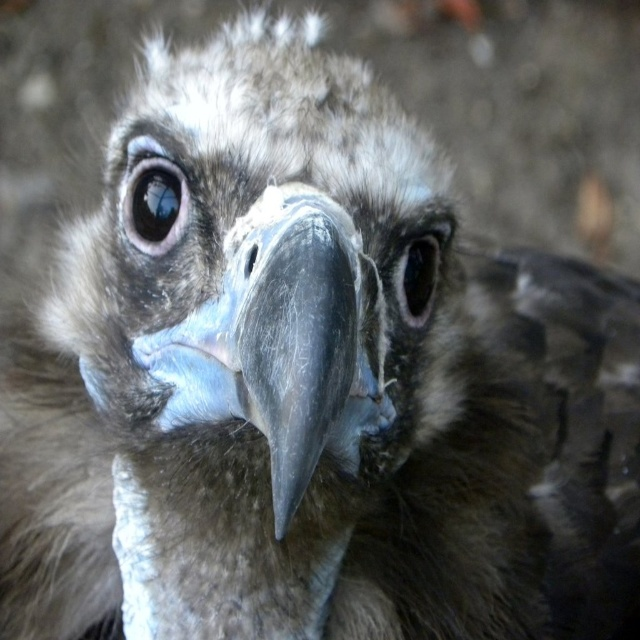Ostrich: (0, 29, 637, 640)
